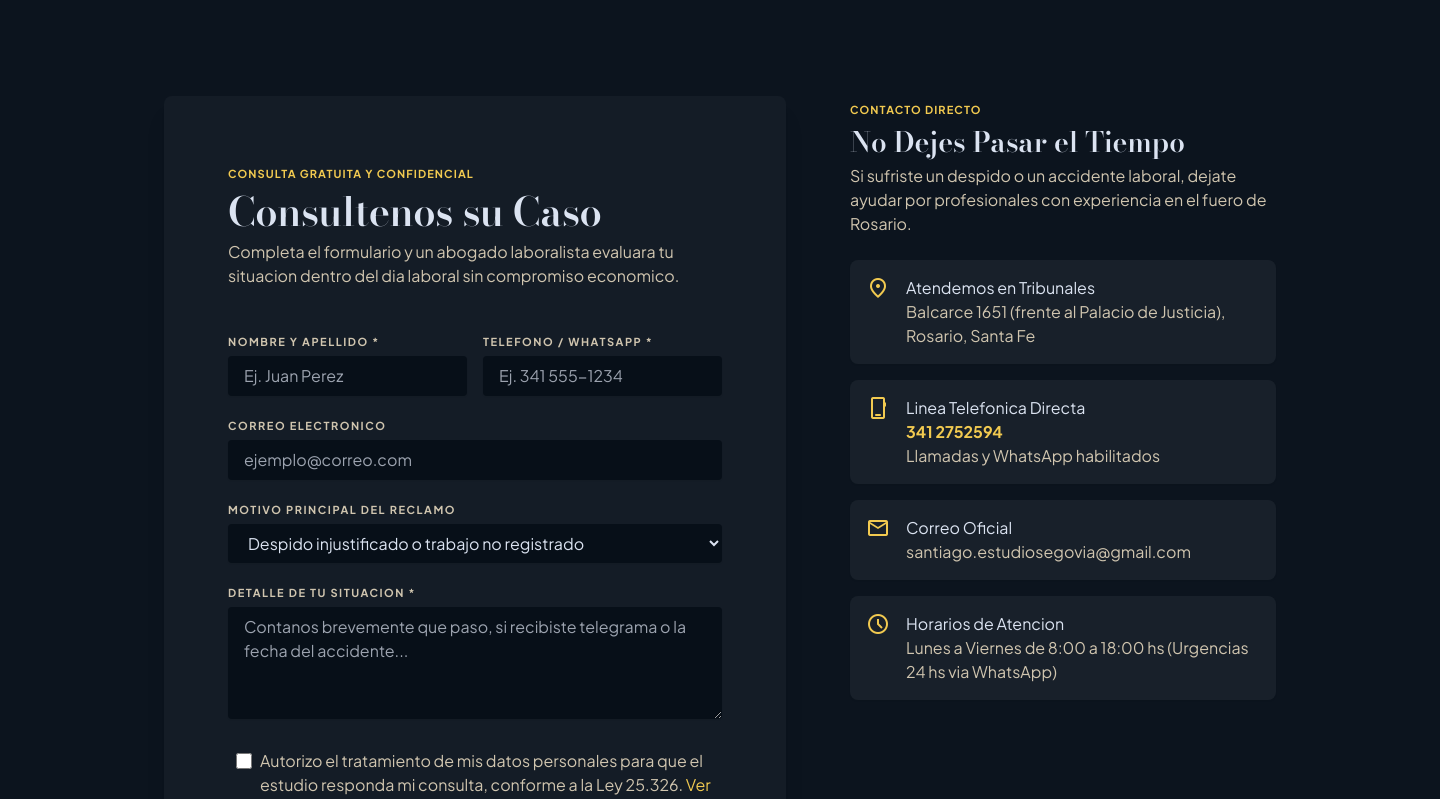
Test case: formulario de contacto › abre WhatsApp cuando VITE_FORM_ENDPOINT esta vacio
This screenshot has width=1440, height=799.
In the field labelled "Nombre y apellido *": (348, 376) [228,356,467,396], type "Juan Perez"
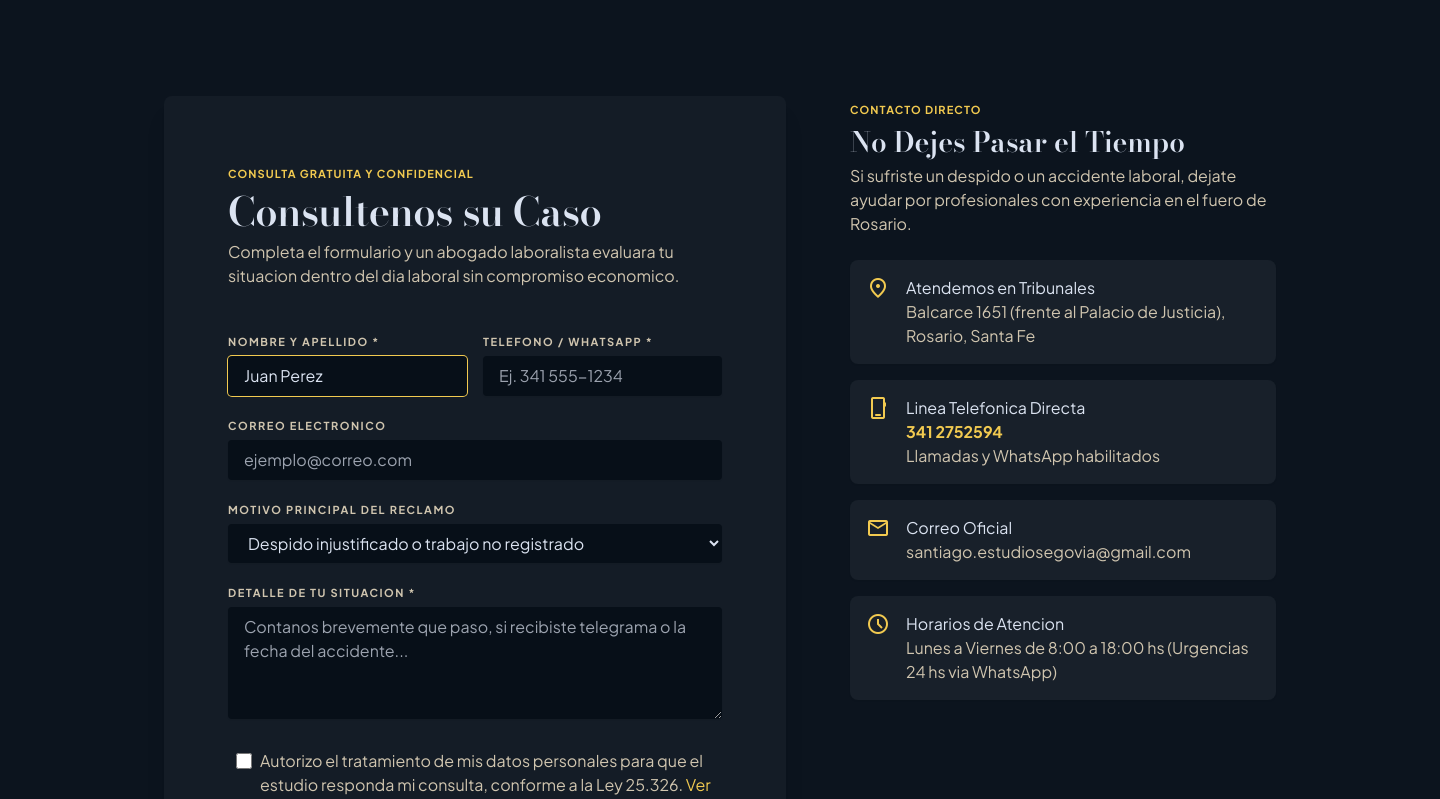
In the field labelled "Telefono / WhatsApp *": (602, 376) [483,356,722,396], type "3415551234"
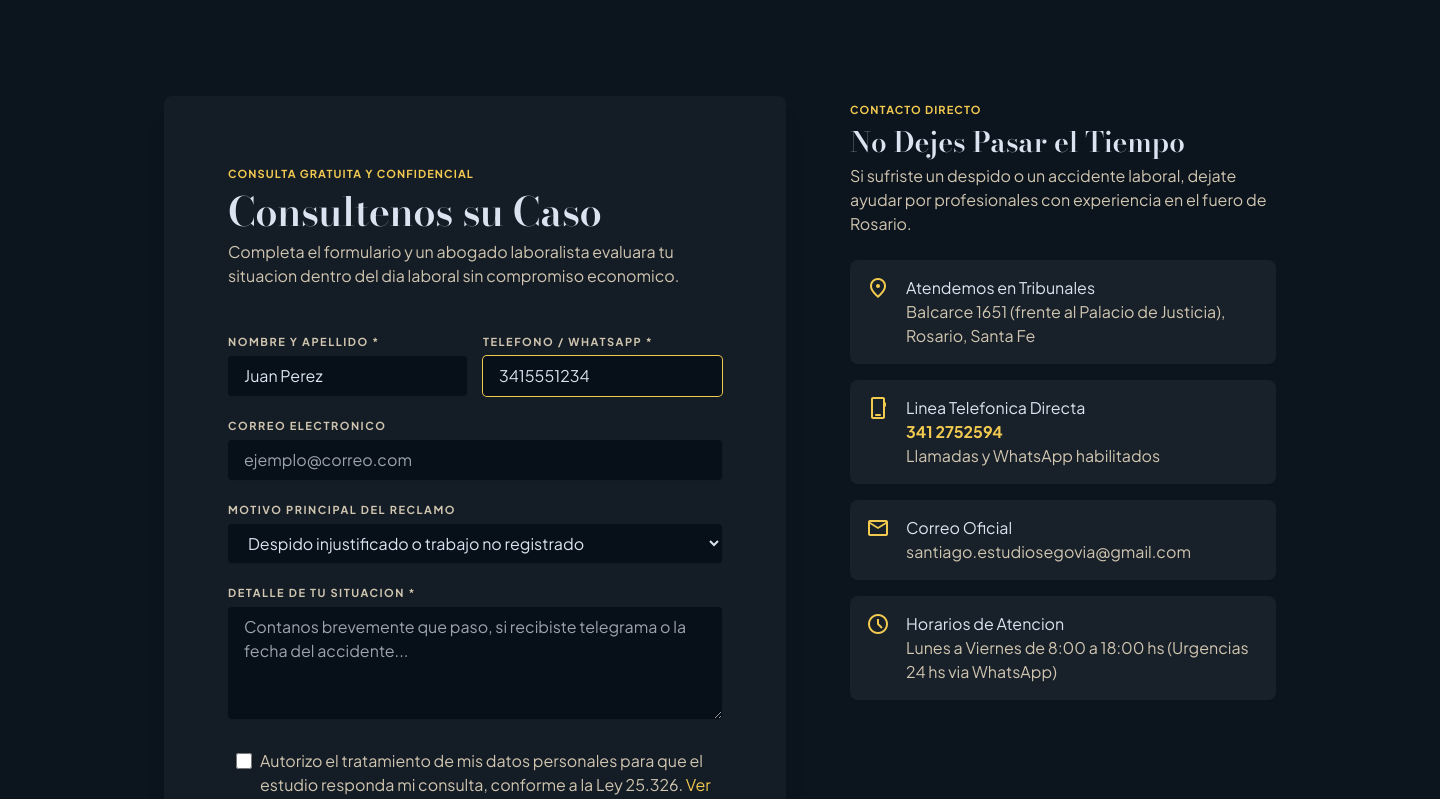
In the text box labelled "Detalle de tu situacion *": (475, 663) [228,607,722,719], type "Me despidieron sin causa"
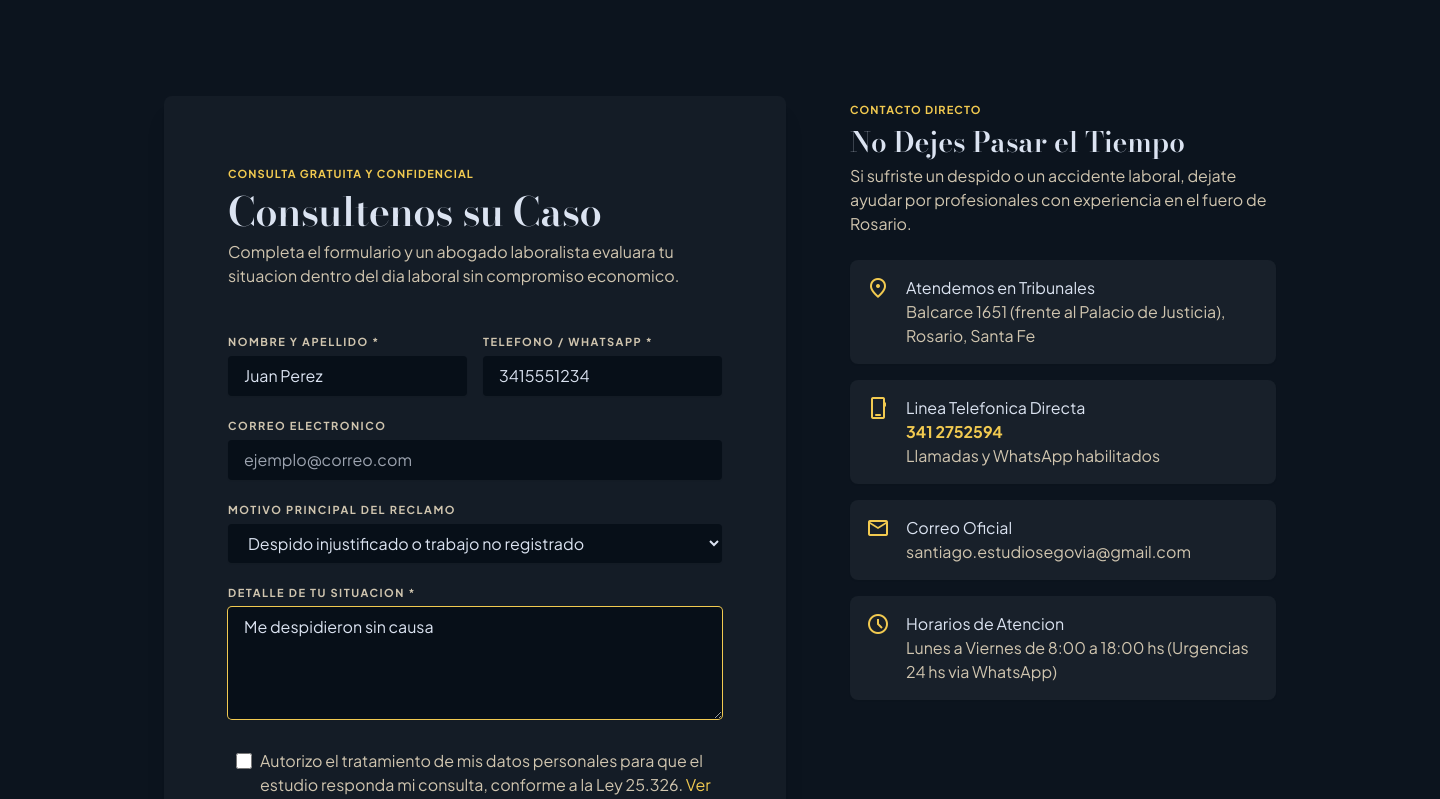
Click the checkbox: (244, 761) [236,753,252,769]
(page scrolled)
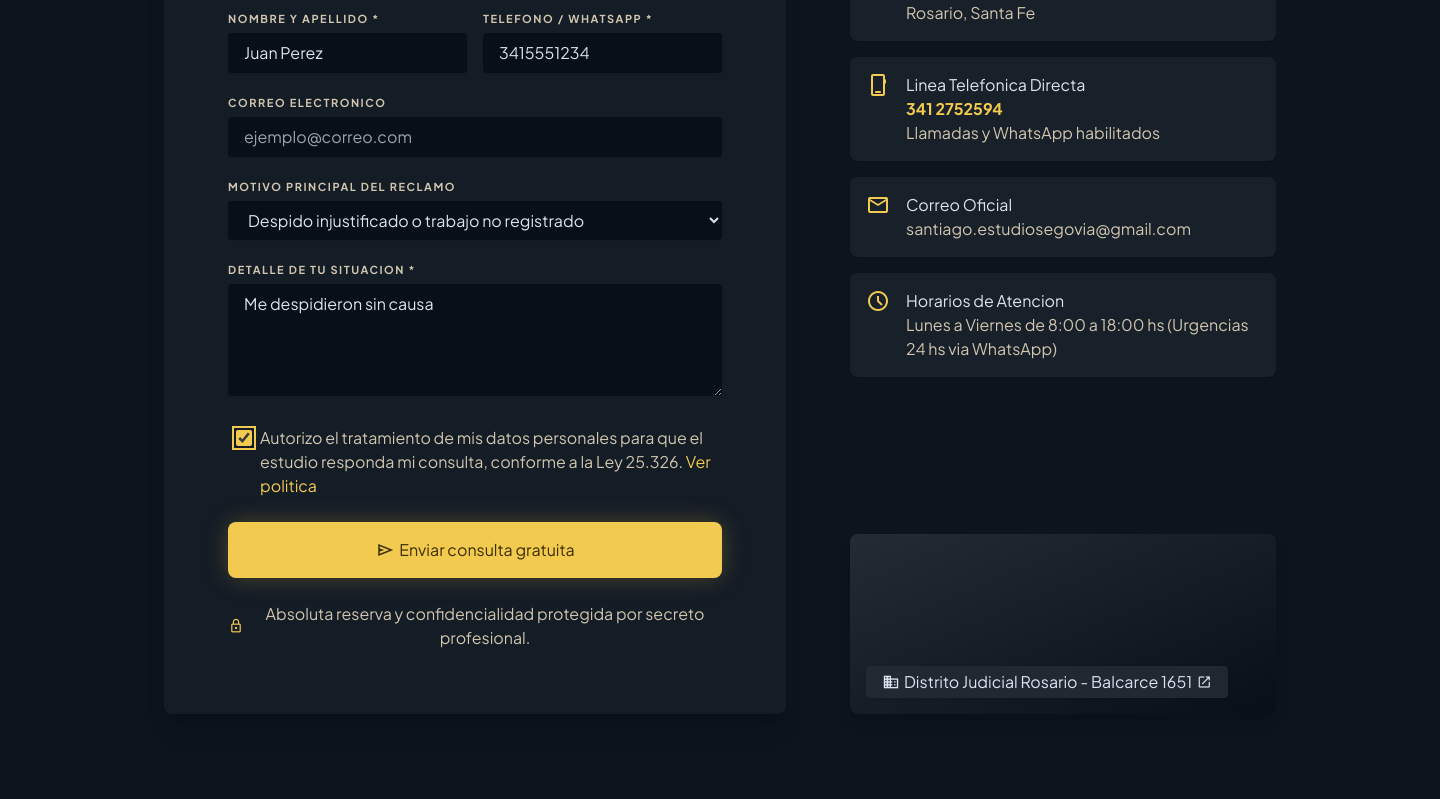
Click the button "Enviar consulta gratuita": (475, 550) [228,522,722,578]
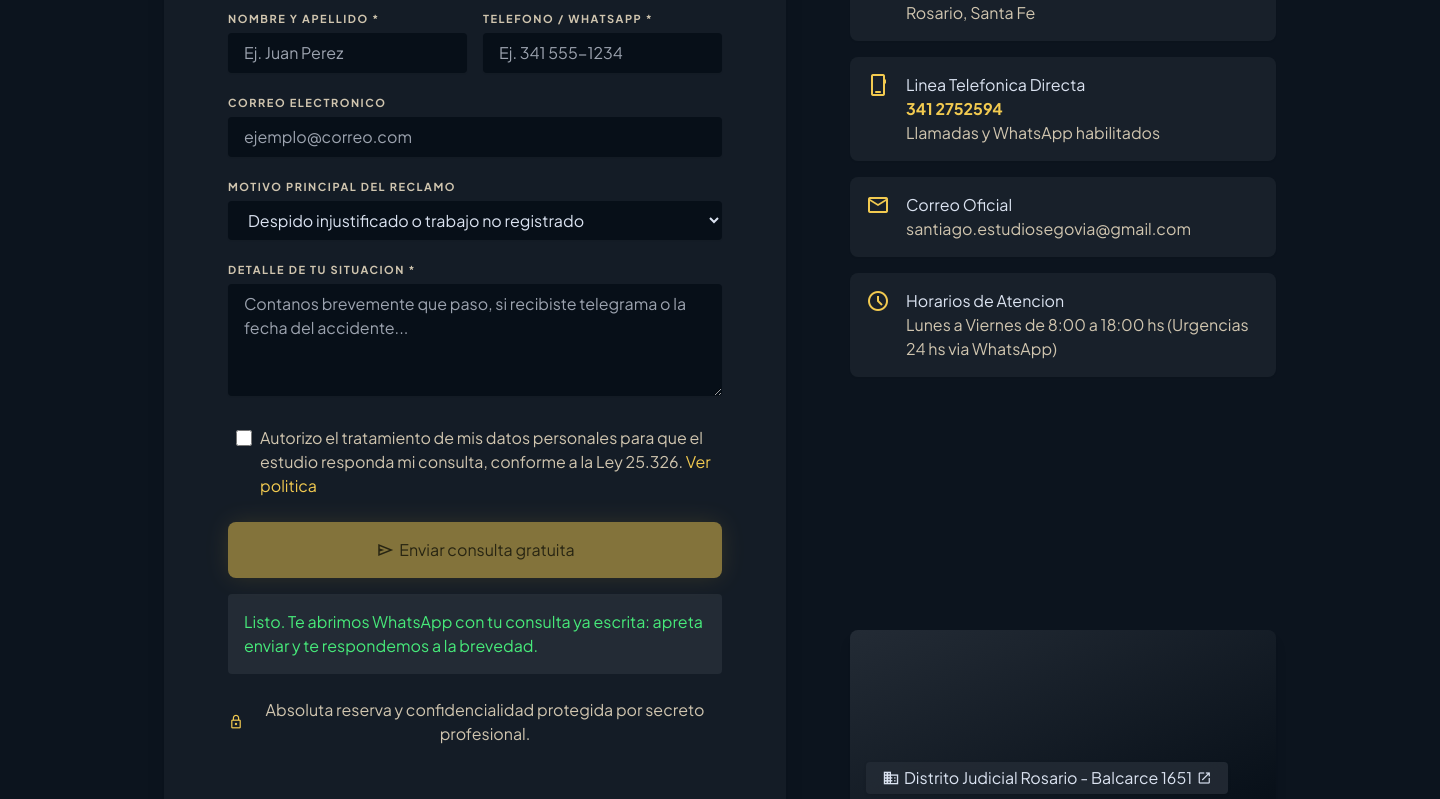
Result: the text "Te abrimos WhatsApp" is shown at [244,611,703,656]
